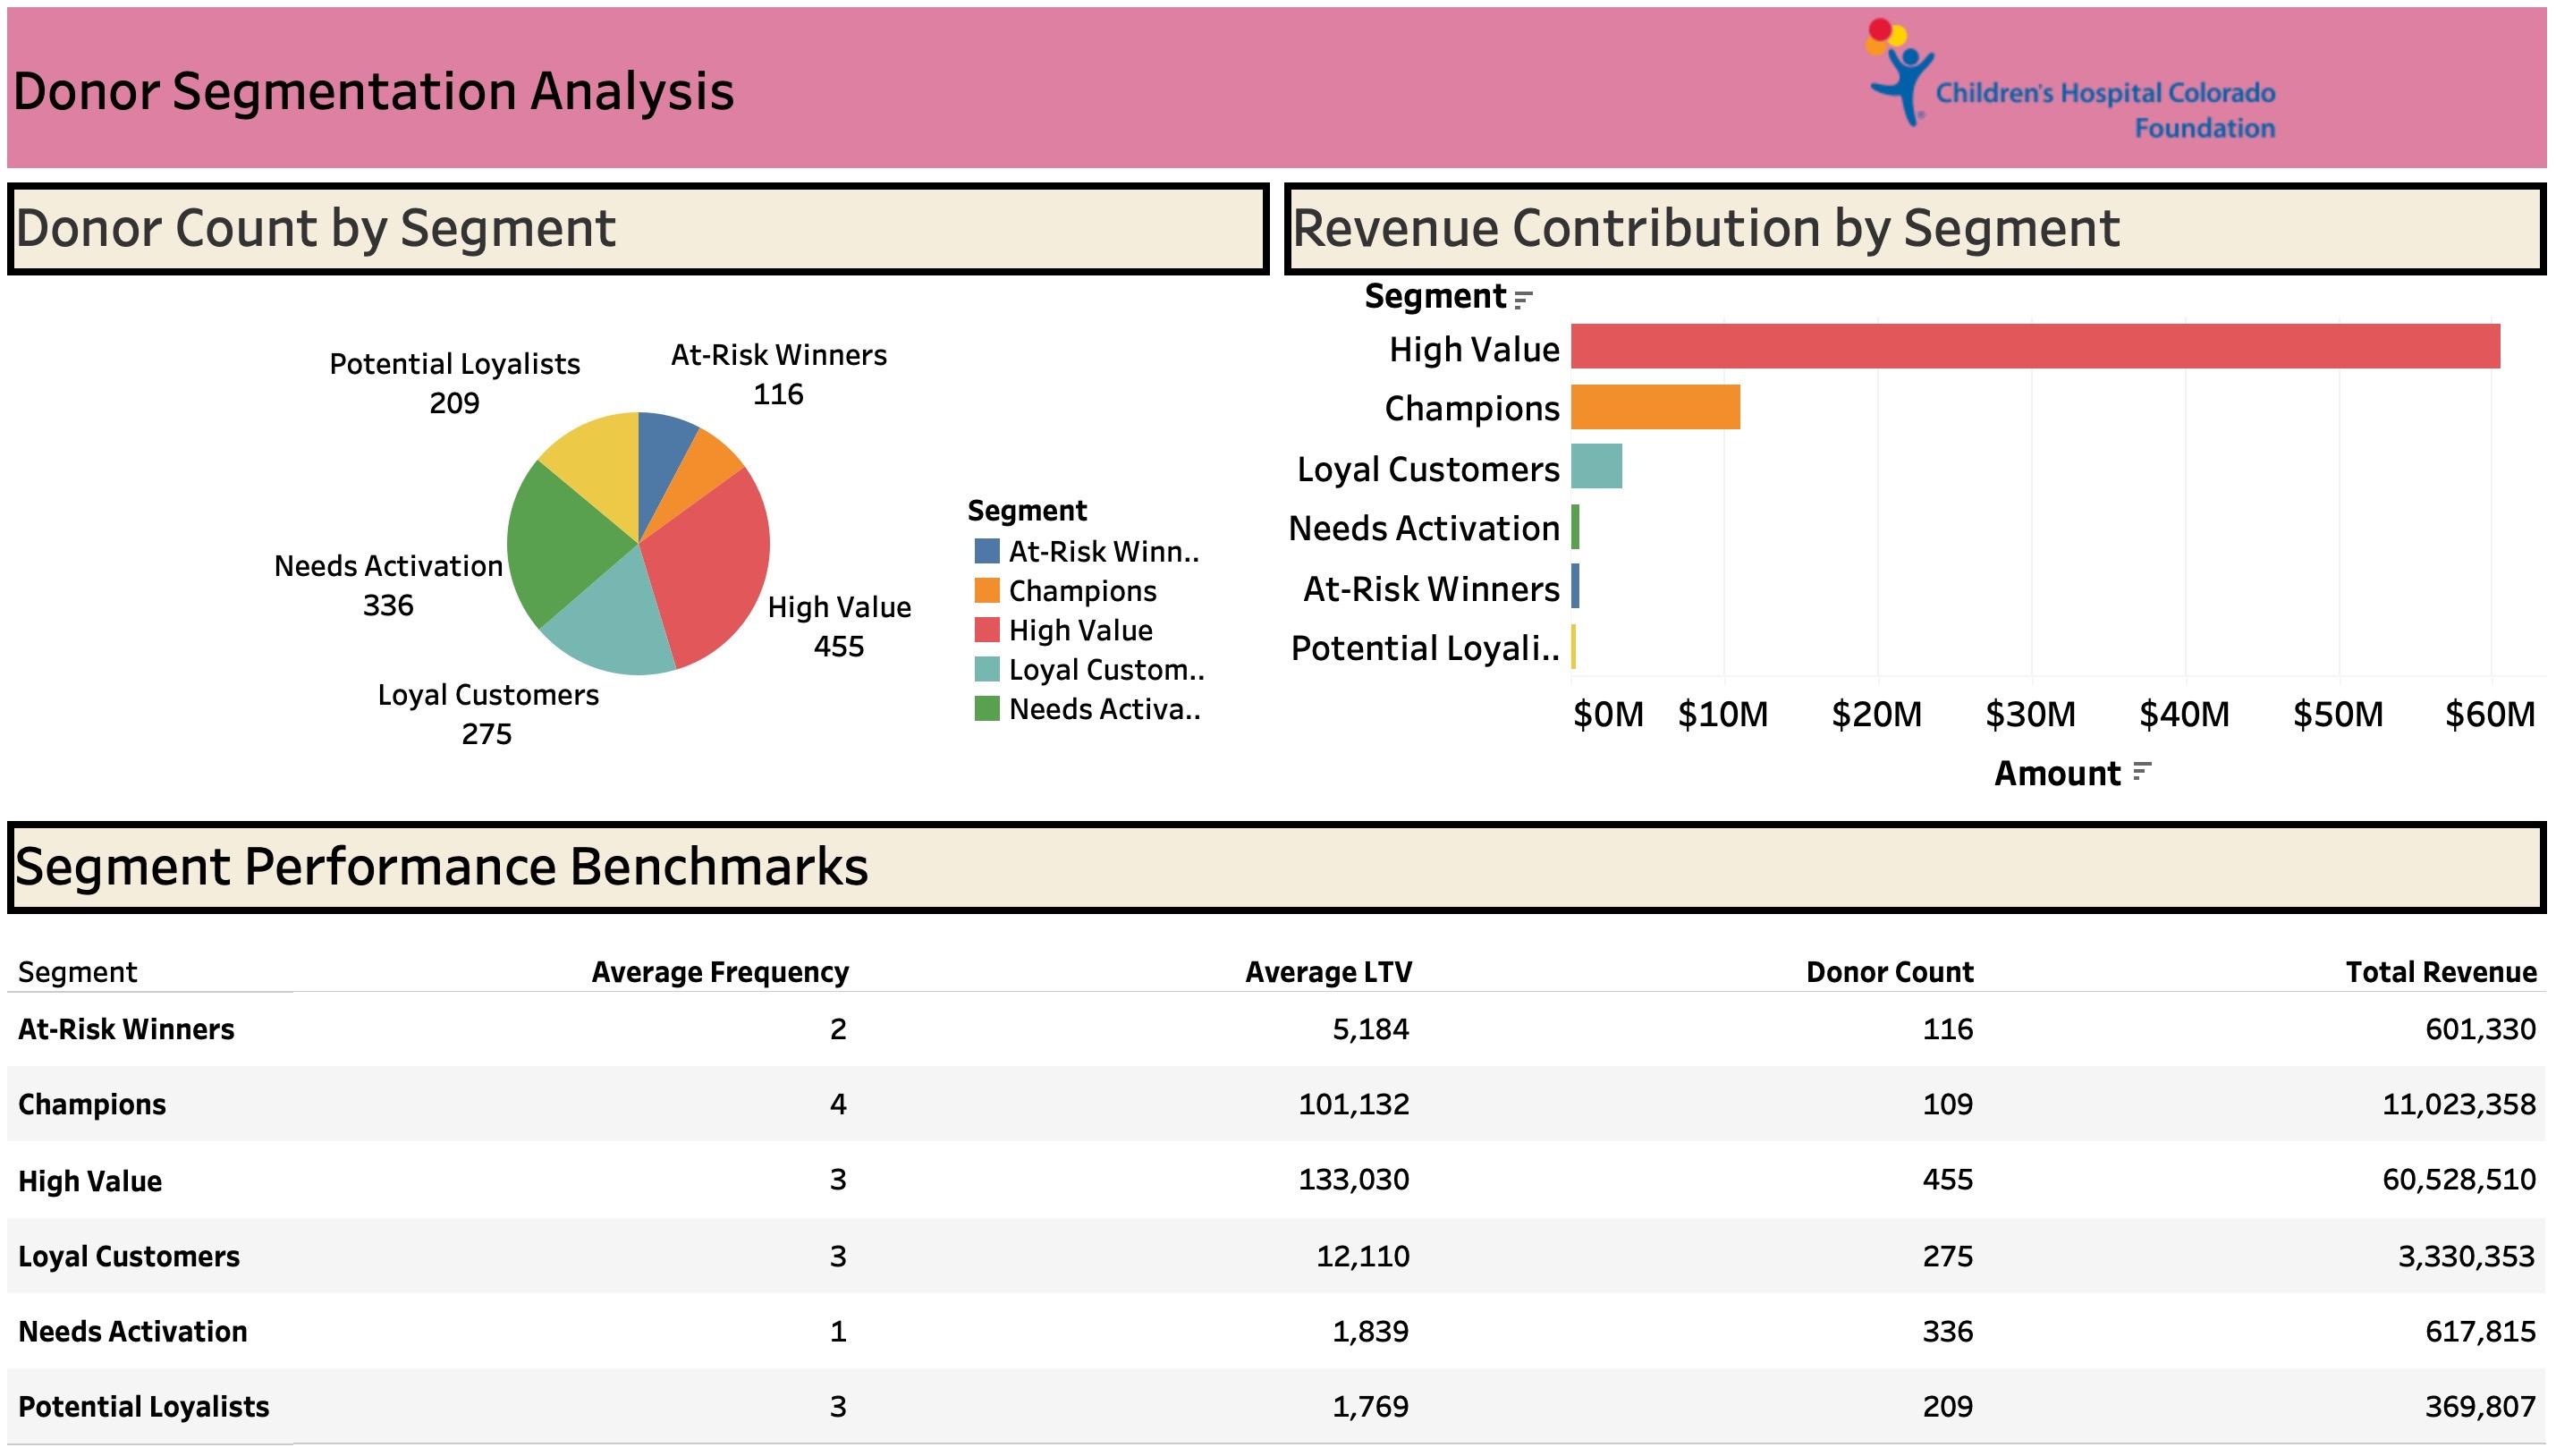

The page's visual inventory and layout, read from the dashboard file:
{"tool":"tableau","page":{"name":"RFM Segmentation Analysis","canvas":[1000,1000],"units":"permille","ordinal":3},"visuals":[{"type":"title","box":[6.3,9.7,987.4,118.4]},{"type":"image","param":"Image/Foundation_Logo_4C.png","box":[727.1,18.1,259.5,90.6]},{"type":"worksheet","title":"Segment Distribution Pie","mark":"Pie","box":[6.3,128,493.7,431.1]},{"type":"worksheet","title":"SegmentRevenueBar","mark":"Automatic","rows":["Segment"],"cols":["Amount"],"box":[500,128,493.7,431.1]},{"type":"legend","title":"Segment Distribution Pie","param":"[federated.0wil2p61om5l3v1eiwfif1h1vznt].[none:Segment:nk]","box":[380.5,340.6,108.4,163]},{"type":"worksheet","title":"Segment Metrics Table","mark":"Automatic","rows":["Segment"],"box":[6.3,559.1,987.4,431.2]}]}

Visuals, with their boxes on the dashboard's canvas, which has no fixed pixel size, in thousandths of its width and height (x1, y1, x2, y2). These are canvas units, not pixel positions in the 2556x1456 screenshot, which may show the page scaled, cropped or inside an application window:
title: [6,10,994,128]
image: [727,18,987,109]
"Segment Distribution Pie" worksheet (Pie marks): [6,128,500,559]
"SegmentRevenueBar" worksheet: [500,128,994,559]
"Segment Distribution Pie" legend: [380,341,489,504]
"Segment Metrics Table" worksheet: [6,559,994,990]
